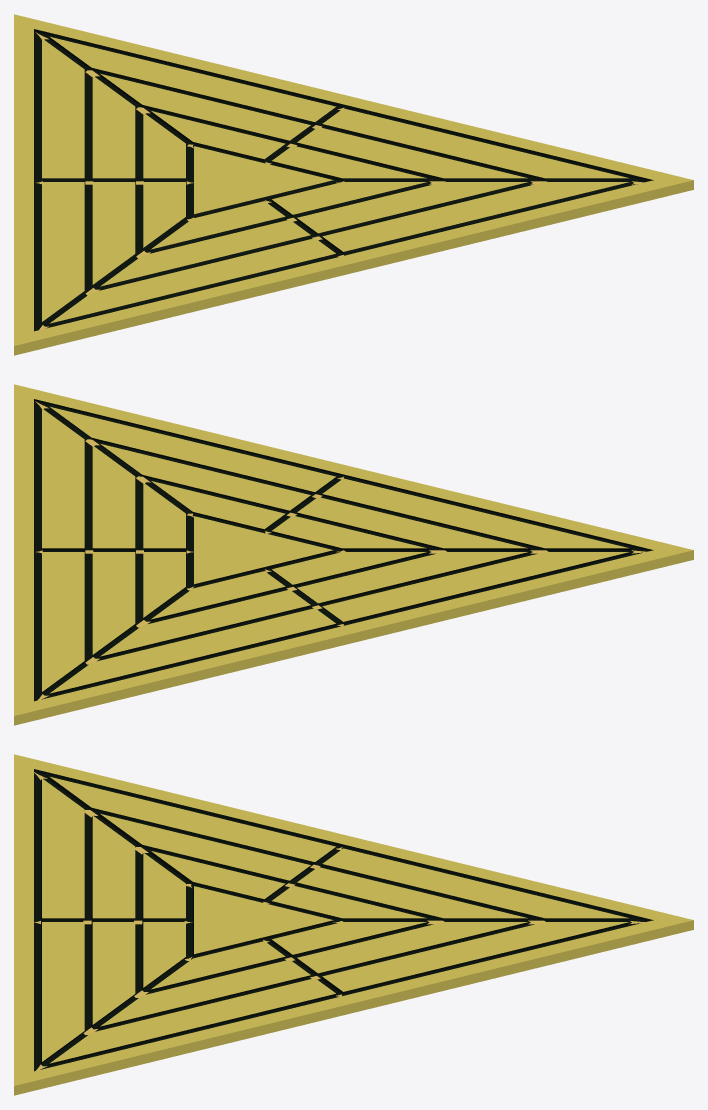
The model's file is TriangleRough.fbx.
3 views of the same model, one above another, from view 1: azimuth 30°, elevation 25°; view 2: azimuth 150°, elevation 25°; view 3: azimuth 270°, elevation 25° (orthographic).
Visible parts, largest first — view 1: triangleField; view 2: triangleField; view 3: triangleField.
Boxes of the visible parts, <box> form: triangleField: <box>14,14,693,355</box>; triangleField: <box>14,384,693,725</box>; triangleField: <box>14,754,693,1095</box>.
Size of the model in its own units: 2138 by 28.98 by 1852.
